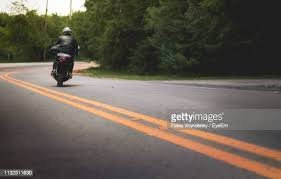motor: (52, 48, 73, 87)
